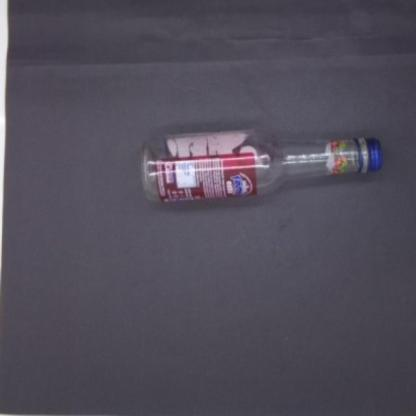Can: (141, 129, 383, 202)
